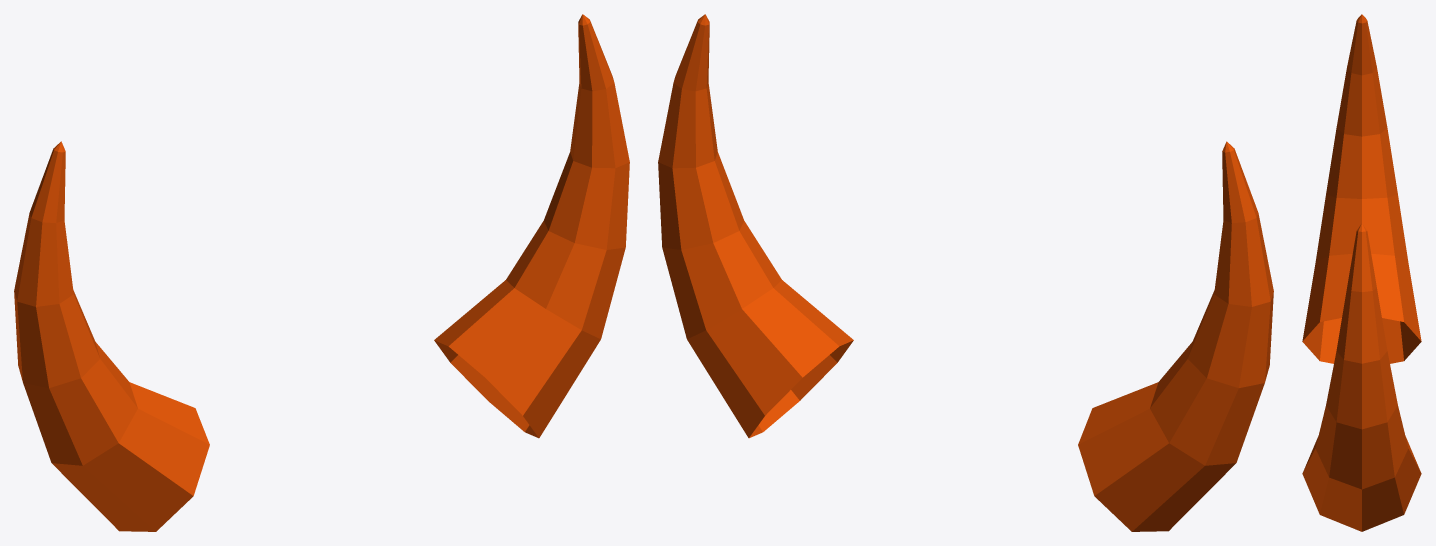
The model's file is Hat_HornsDevil.fbx.
3 renders of one model, left to right at view 1: azimuth 30°, elevation 25°; view 2: azimuth 150°, elevation 25°; view 3: azimuth 270°, elevation 25°, orthographic. The views are drawn at different scales.
Parts seen in each view (by area): view 1: Hat_HornsDevil; view 2: Hat_HornsDevil; view 3: Hat_HornsDevil.
Part boxes in pixels (<box>): Hat_HornsDevil: <box>14,14,629,531</box>; Hat_HornsDevil: <box>658,14,1273,531</box>; Hat_HornsDevil: <box>1302,14,1421,531</box>.
Size of the model in its own units: 2.29 by 1.45 by 0.4731.
